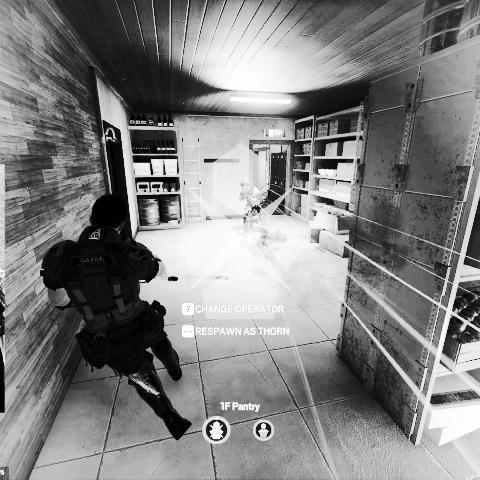Character: (38, 187, 191, 445), (238, 177, 266, 238)
Head: (90, 193, 131, 238), (240, 177, 250, 190)
